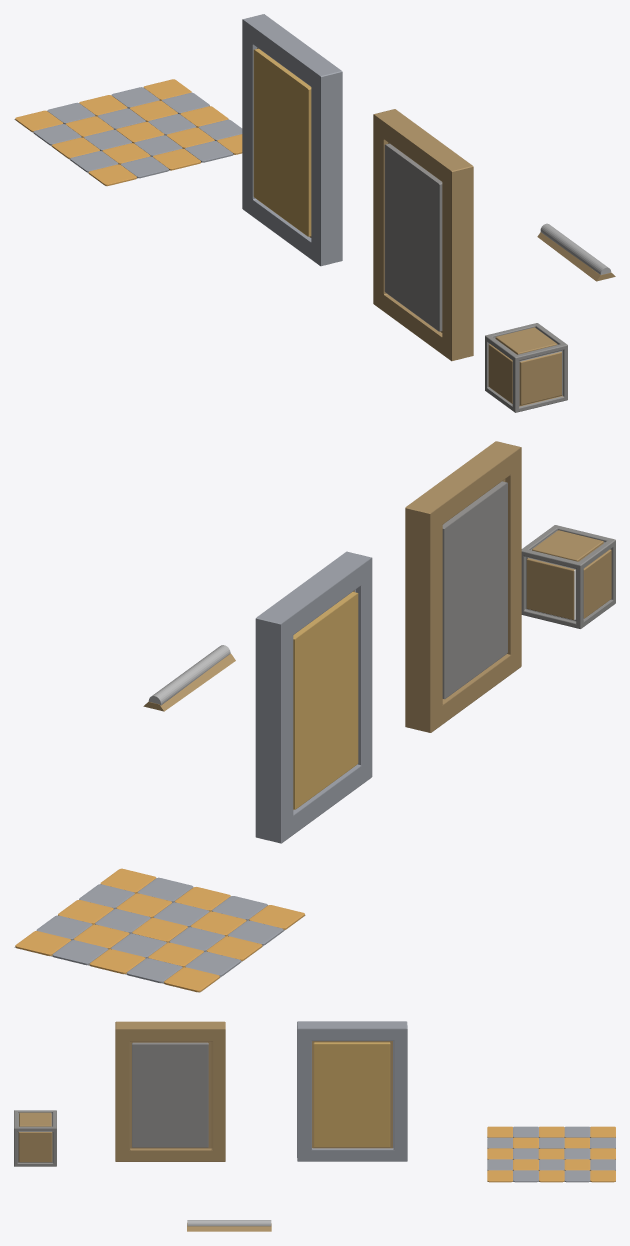
The picture shows the model from 3 angles, top to bottom: view 1: azimuth 30°, elevation 25°; view 2: azimuth 150°, elevation 25°; view 3: azimuth 270°, elevation 25°; orthographic projection. The views are drawn at different scales.
Parts seen in each view (by area): view 1: Плоскость.003, Плоскость.001, Куб.005, Куб.024, Куб.001, Куб.002; view 2: Плоскость.001, Плоскость.003, Куб.005, Куб.024, Куб.001, Куб.002; view 3: Плоскость.001, Плоскость.003, Куб.005, Куб.024, Куб.001, Куб.002.
Part boxes in pixels (x1,y1,x2,y2): Плоскость.003: [373, 109, 473, 361]; Плоскость.001: [242, 14, 342, 266]; Куб.005: [15, 79, 242, 186]; Куб.024: [33, 87, 242, 178]; Куб.001: [485, 323, 567, 412]; Куб.002: [537, 223, 615, 281]; Плоскость.001: [255, 551, 372, 843]; Плоскость.003: [405, 441, 521, 732]; Куб.005: [15, 868, 304, 992]; Куб.024: [36, 877, 283, 982]; Куб.001: [521, 525, 615, 628]; Куб.002: [143, 645, 235, 711]; Плоскость.001: [297, 1021, 407, 1161]; Плоскость.003: [115, 1021, 225, 1161]; Куб.005: [487, 1126, 615, 1182]; Куб.024: [487, 1126, 615, 1182]; Куб.001: [14, 1110, 56, 1166]; Куб.002: [187, 1220, 271, 1231].
Bounding box in the file's own units: 1112 × 702 × 2809.
